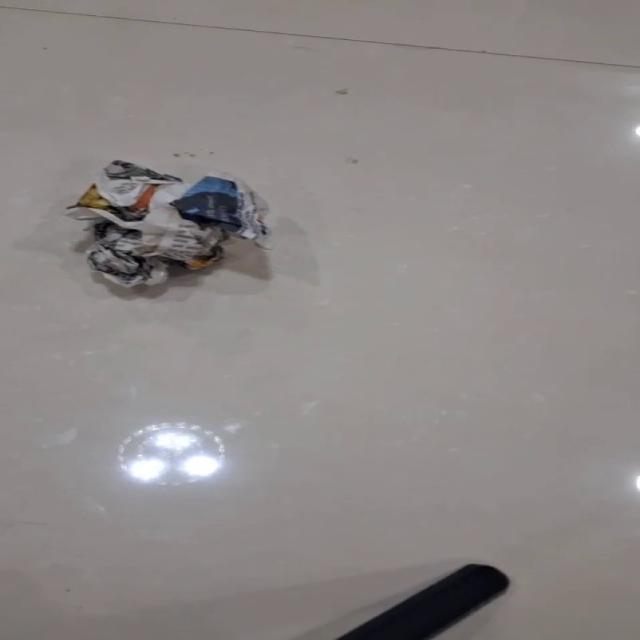paper: (62, 158, 273, 289)
